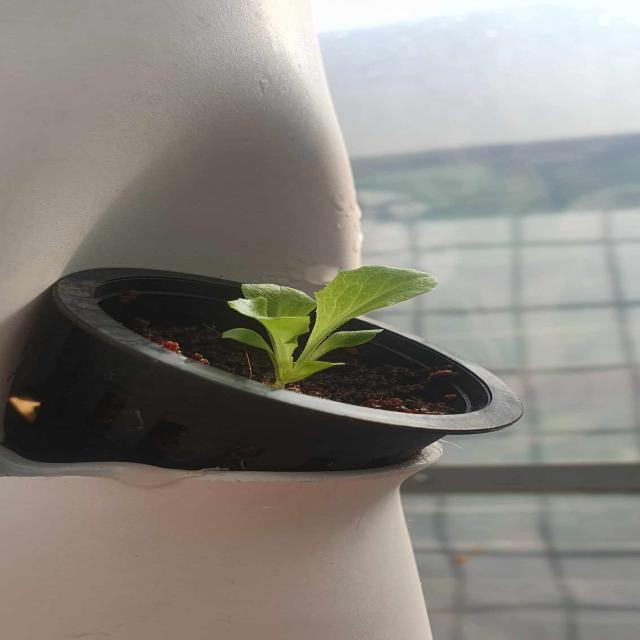Lettuce-Not-Ready-to-Harvest: (215, 251, 431, 386)
